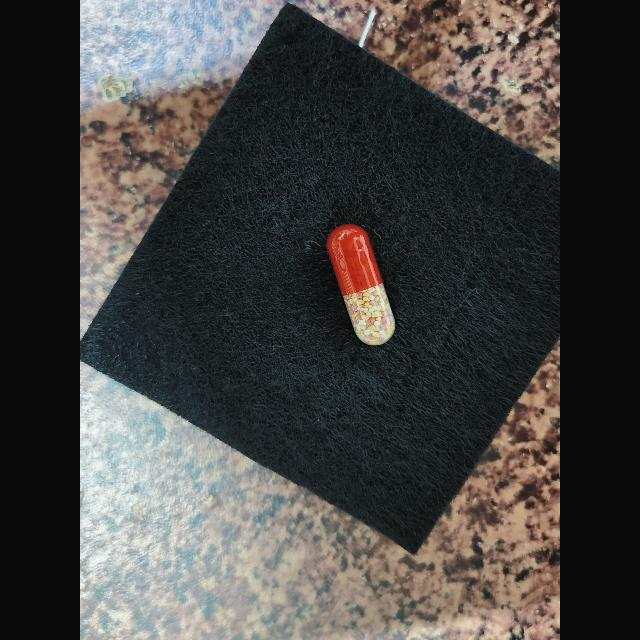Intact Capsule: (327, 224, 395, 345)
